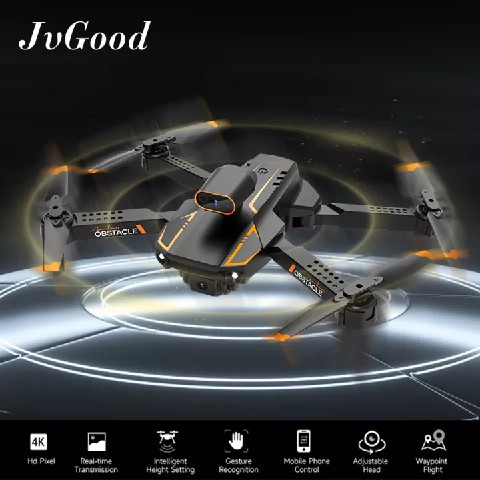maybay_khongnguoilai: (32, 103, 453, 336)
